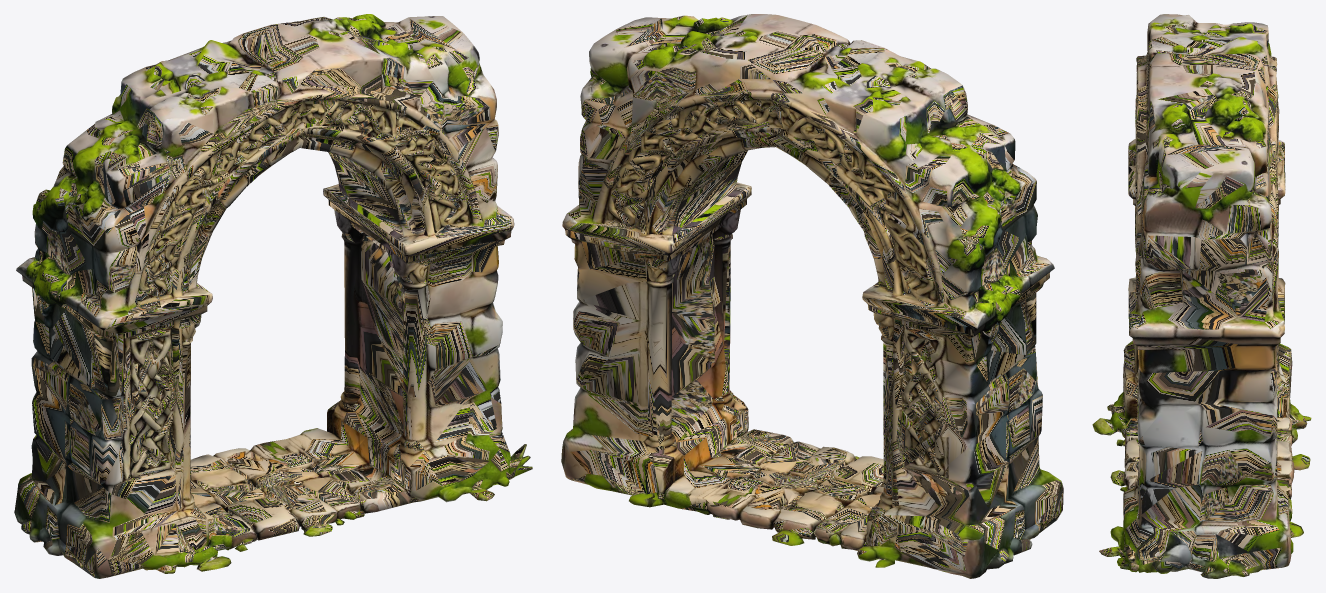
The model's file is Ancient_Archway.glb.
3 renders of one model, left to right at view 1: azimuth 30°, elevation 25°; view 2: azimuth 150°, elevation 25°; view 3: azimuth 270°, elevation 25°, orthographic. The views are drawn at different scales.
Parts seen in each view (by area): view 1: Ancient_Archway; view 2: Ancient_Archway; view 3: Ancient_Archway.
Boxes of the visible parts, x1,y1,x2,y2 form: Ancient_Archway: (14,14,532,578); Ancient_Archway: (561,14,1063,578); Ancient_Archway: (1092,14,1311,578).
Bounding box in the file's own units: 1.9 × 1.86 × 0.8624.
Materials: 1 (1 with a texture image).
